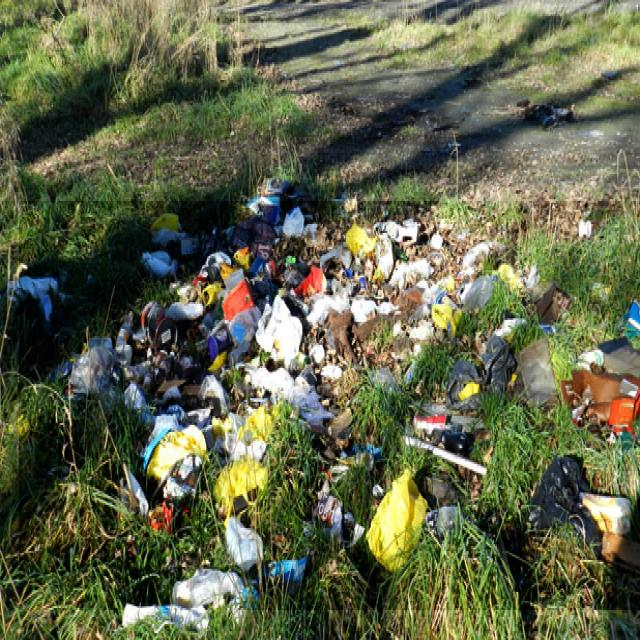dumping: (19, 201, 640, 610)
